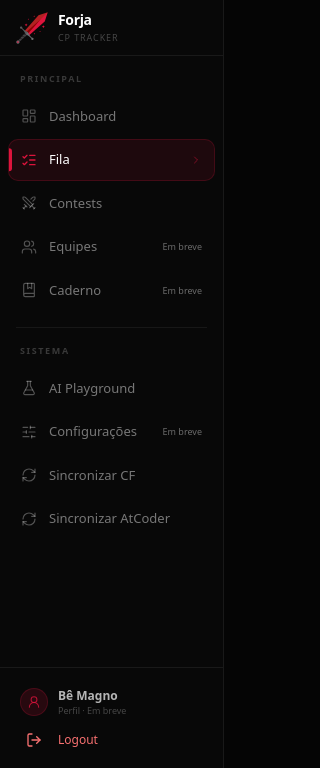
Test: Sidebar › exibe mensagem de erro quando a API de sincronização falhar
Click the button "Sincronizar CF": (112, 475) [8, 454, 215, 496]
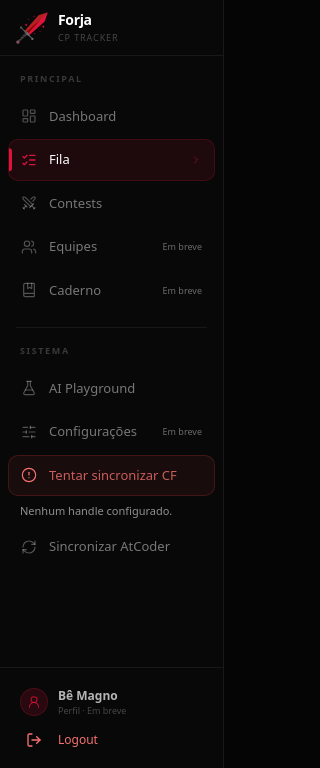
Expected: the text "Nenhum handle configurado." is shown, [20, 503, 172, 518]
